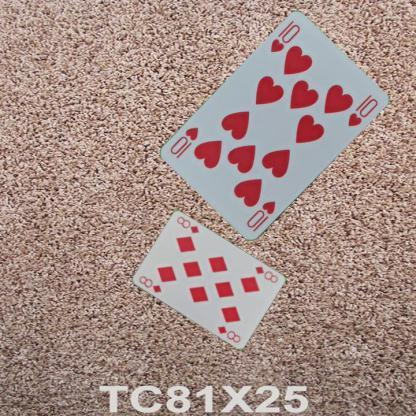10h: (244, 199, 277, 233), (268, 22, 301, 54)
8d: (252, 264, 280, 284), (136, 273, 162, 294)
